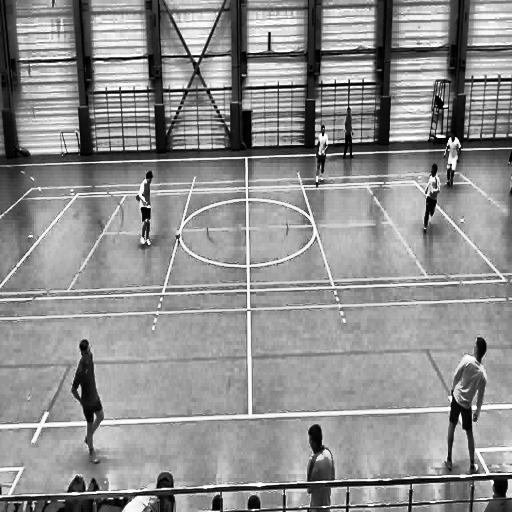ball: (174, 229, 182, 242)
player: (443, 336, 488, 474), (71, 336, 105, 468), (422, 162, 442, 238), (443, 129, 463, 189), (138, 171, 153, 249), (314, 124, 330, 190), (342, 107, 355, 161)
